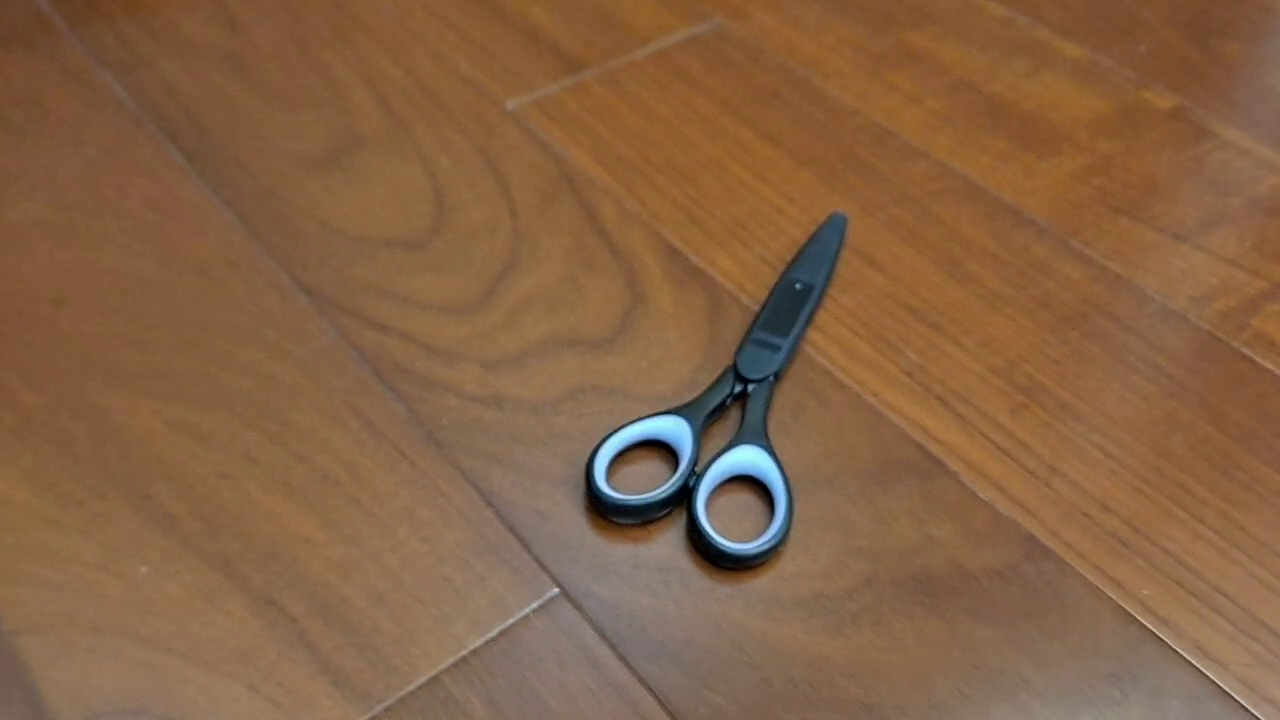scissors: (583, 209, 850, 573)
